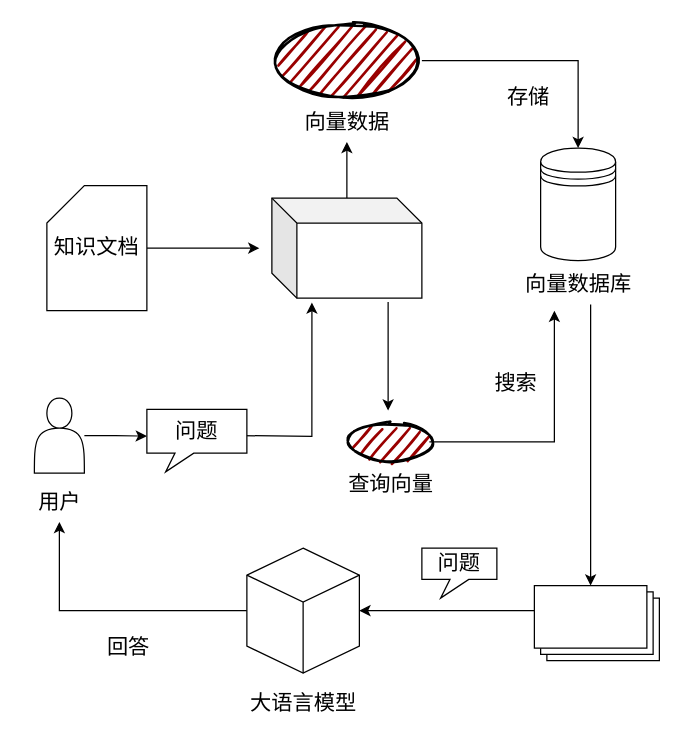
The diagram is 681 pixels wide and 744 high, and some of its shapes have lost their labels. Each missing label, with the centre of its shape:
嵌入模型: (x=346, y=247)
知识片段: (x=596, y=622)
